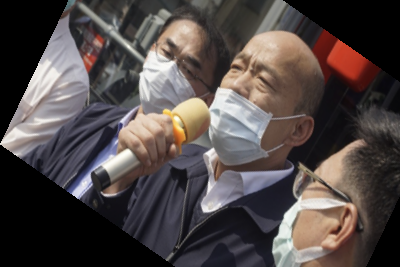mask_weared_incorrect: (207, 22, 328, 167)
